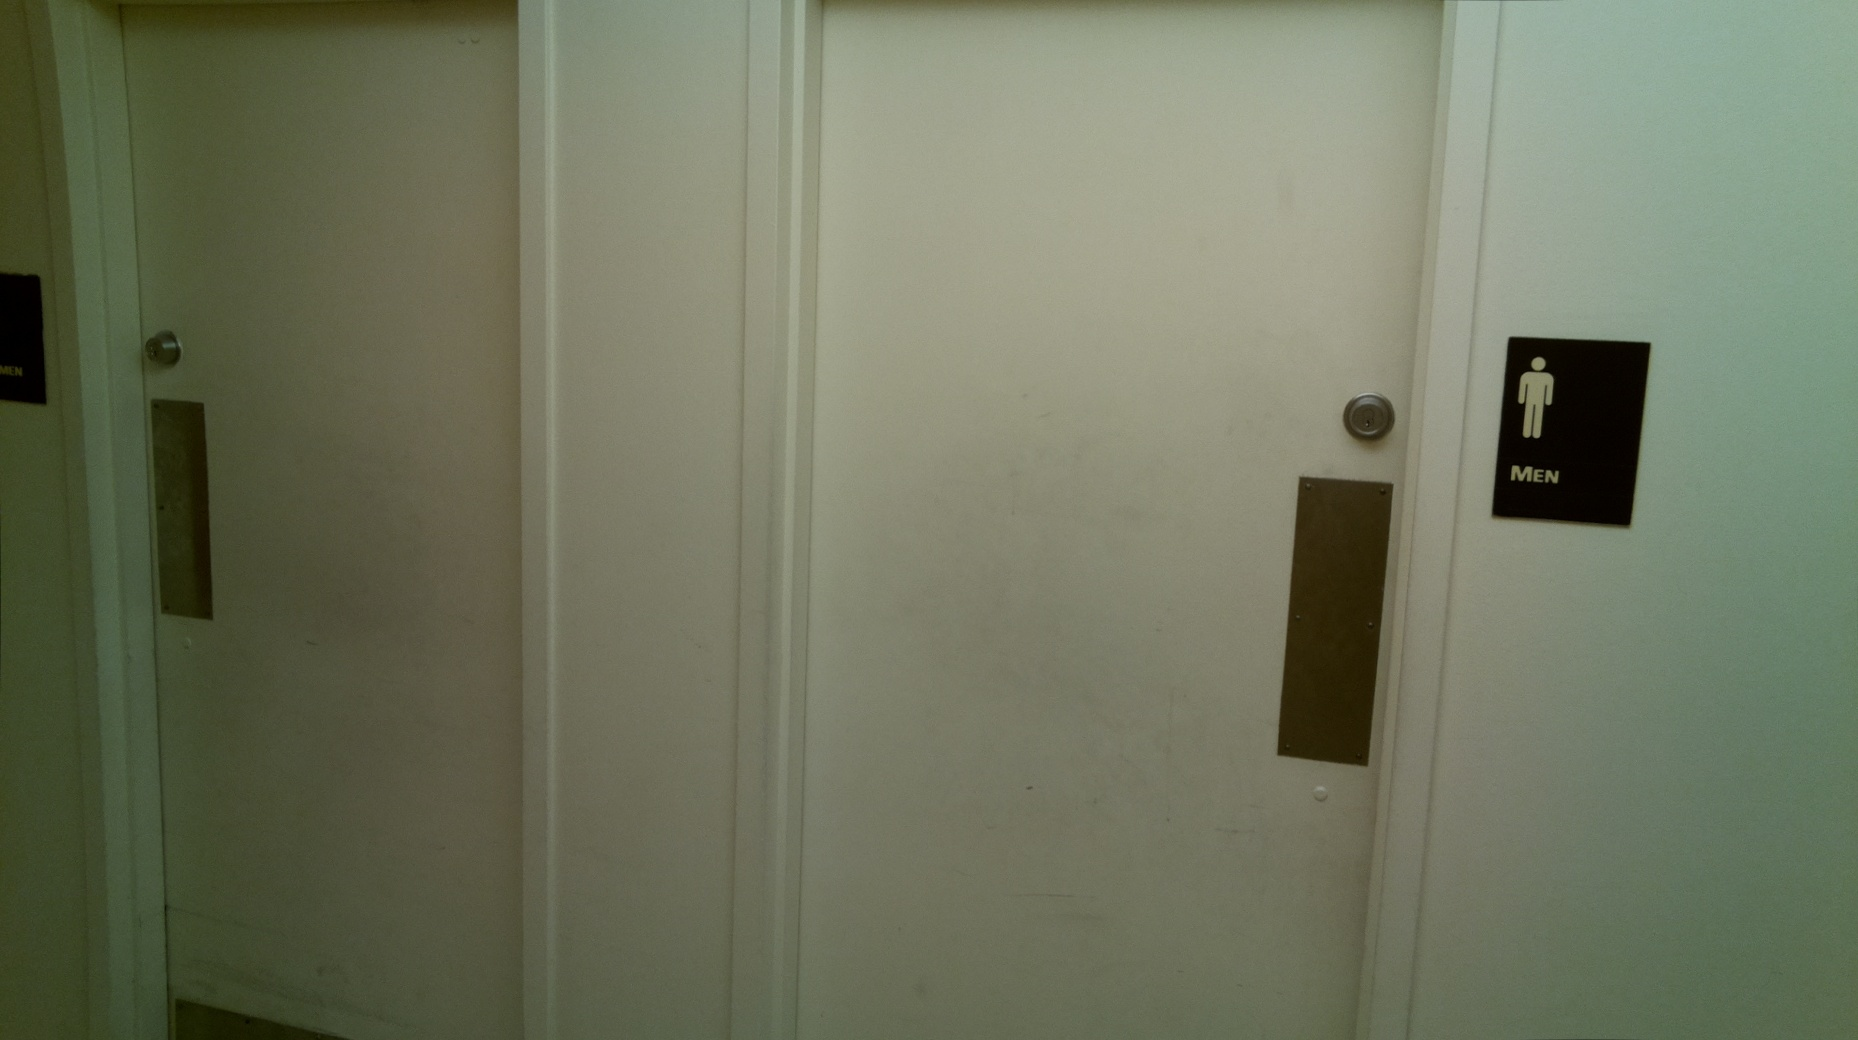bathroom sign: (1485, 329, 1656, 539)
